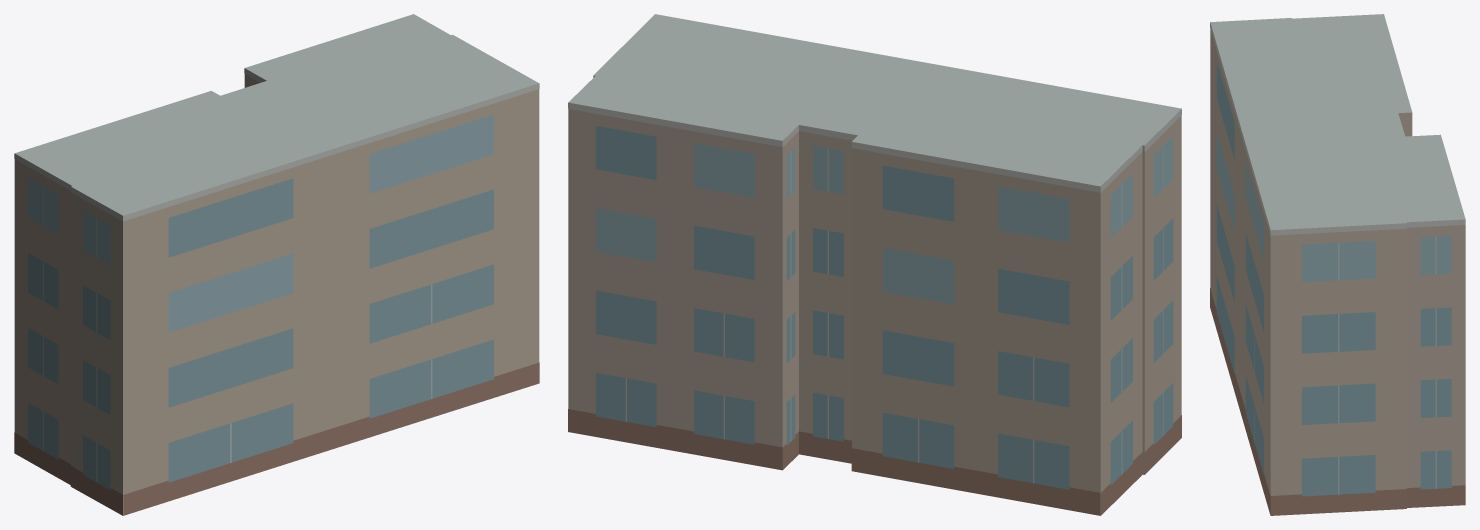
The model's file is survey-upis-32611926.glb.
3 views of the same model, side by side, from view 1: azimuth 30°, elevation 25°; view 2: azimuth 150°, elevation 25°; view 3: azimuth 270°, elevation 25° (orthographic). The views are drawn at different scales.
Parts seen in each view (by area): view 1: survey-upis-32611926.tmp; view 2: survey-upis-32611926.tmp; view 3: survey-upis-32611926.tmp.
Part boxes in pixels (<box>): survey-upis-32611926.tmp: <box>14,14,539,515</box>; survey-upis-32611926.tmp: <box>568,14,1181,515</box>; survey-upis-32611926.tmp: <box>1210,14,1465,515</box>.
Bounding box in the file's own units: 20.79 × 12.8 × 10.38.
